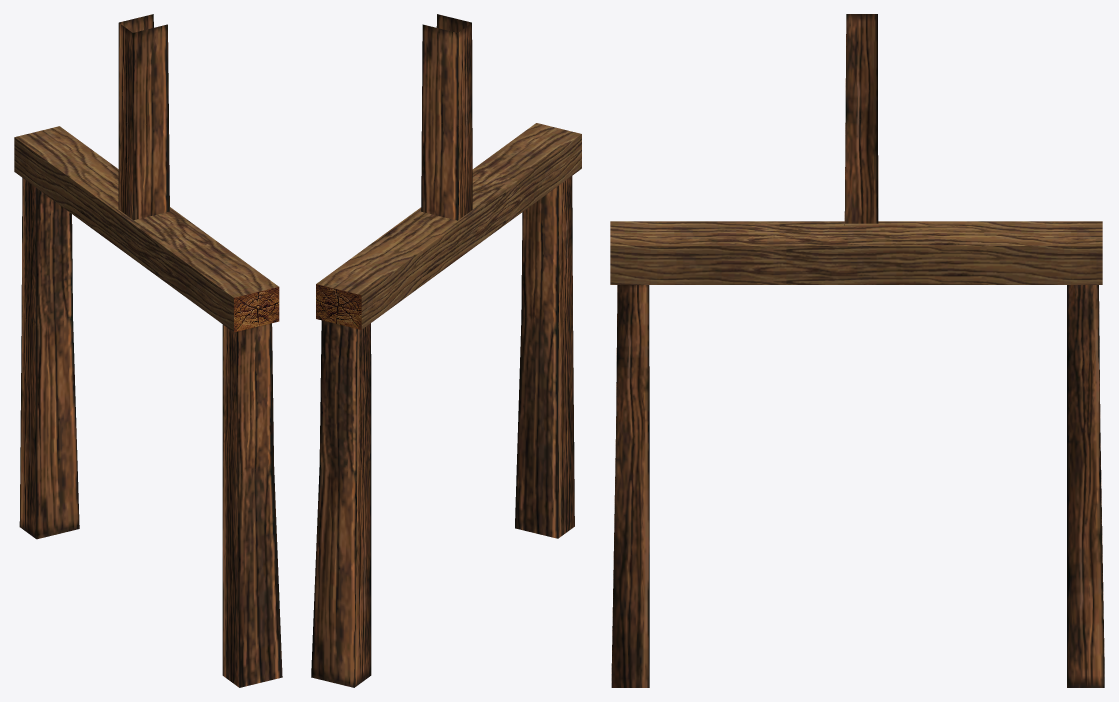
File: LAKETOWN_WAREHOUSE2_PS_WH2_DOORFRAME6546__GX.fbx
3 renders of one model, left to right at view 1: azimuth 30°, elevation 25°; view 2: azimuth 150°, elevation 25°; view 3: azimuth 270°, elevation 25°, orthographic. The views are drawn at different scales.
Parts seen in each view (by area): view 1: LAKETOWN_WAREHOUSE2_PS_WH2_DOORFRAME6546__GX; view 2: LAKETOWN_WAREHOUSE2_PS_WH2_DOORFRAME6546__GX; view 3: LAKETOWN_WAREHOUSE2_PS_WH2_DOORFRAME6546__GX.
Part boxes in pixels (left/top/right/bottom): LAKETOWN_WAREHOUSE2_PS_WH2_DOORFRAME6546__GX: left=14, top=14, right=282, bottom=687; LAKETOWN_WAREHOUSE2_PS_WH2_DOORFRAME6546__GX: left=311, top=14, right=581, bottom=687; LAKETOWN_WAREHOUSE2_PS_WH2_DOORFRAME6546__GX: left=610, top=14, right=1104, bottom=687.
Size of the model in its own units: 4392 by 49345 by 34050.
Materials: 3 (3 with a texture image).
